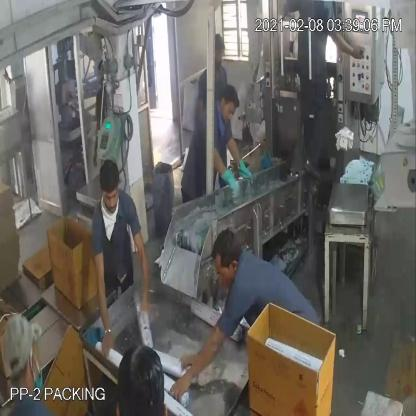glove: (206, 148, 240, 196), (227, 138, 255, 191)
no_glove: (166, 326, 228, 404), (93, 241, 117, 362), (125, 225, 155, 318)
